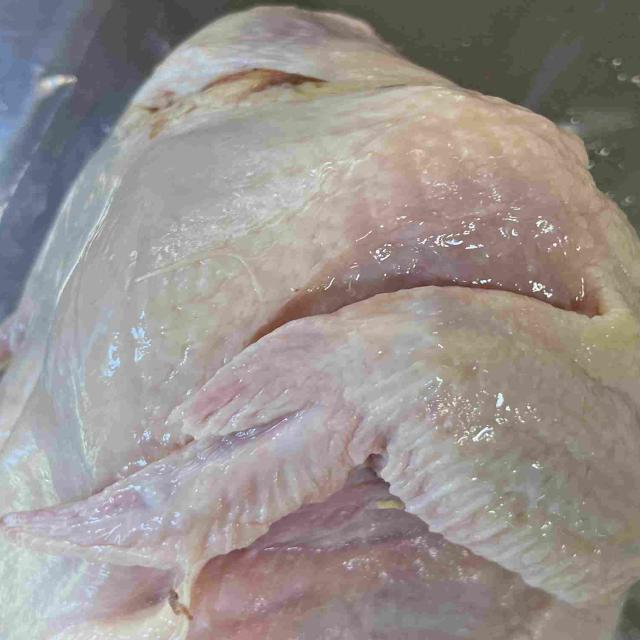leg: (171, 513, 569, 640)
wing: (0, 288, 640, 601)
